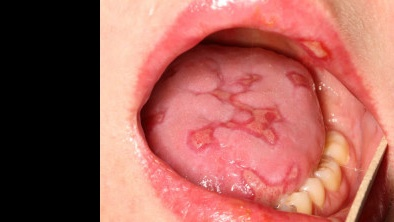SJS-TEN: (184, 54, 294, 168), (234, 157, 306, 214), (280, 18, 340, 70), (284, 67, 318, 92)
